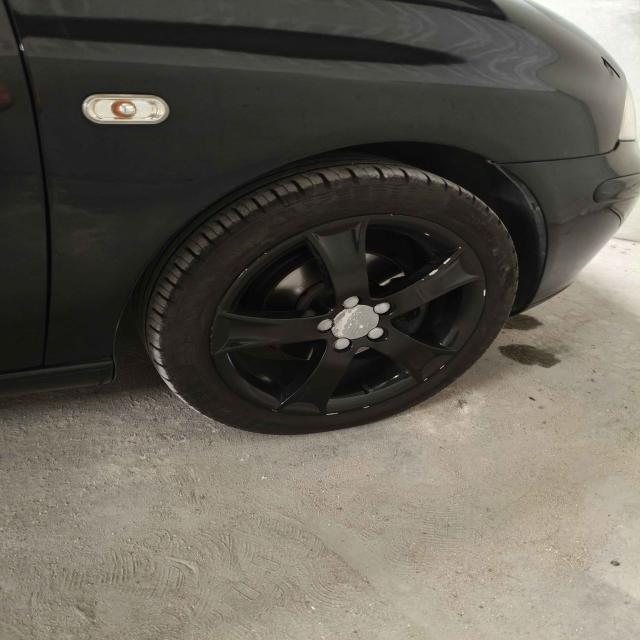jante: (210, 213, 488, 417)
parafuso: (342, 294, 362, 309), (316, 318, 334, 334), (373, 300, 392, 315), (366, 327, 386, 340), (334, 337, 351, 352)
roda: (133, 151, 521, 436)
